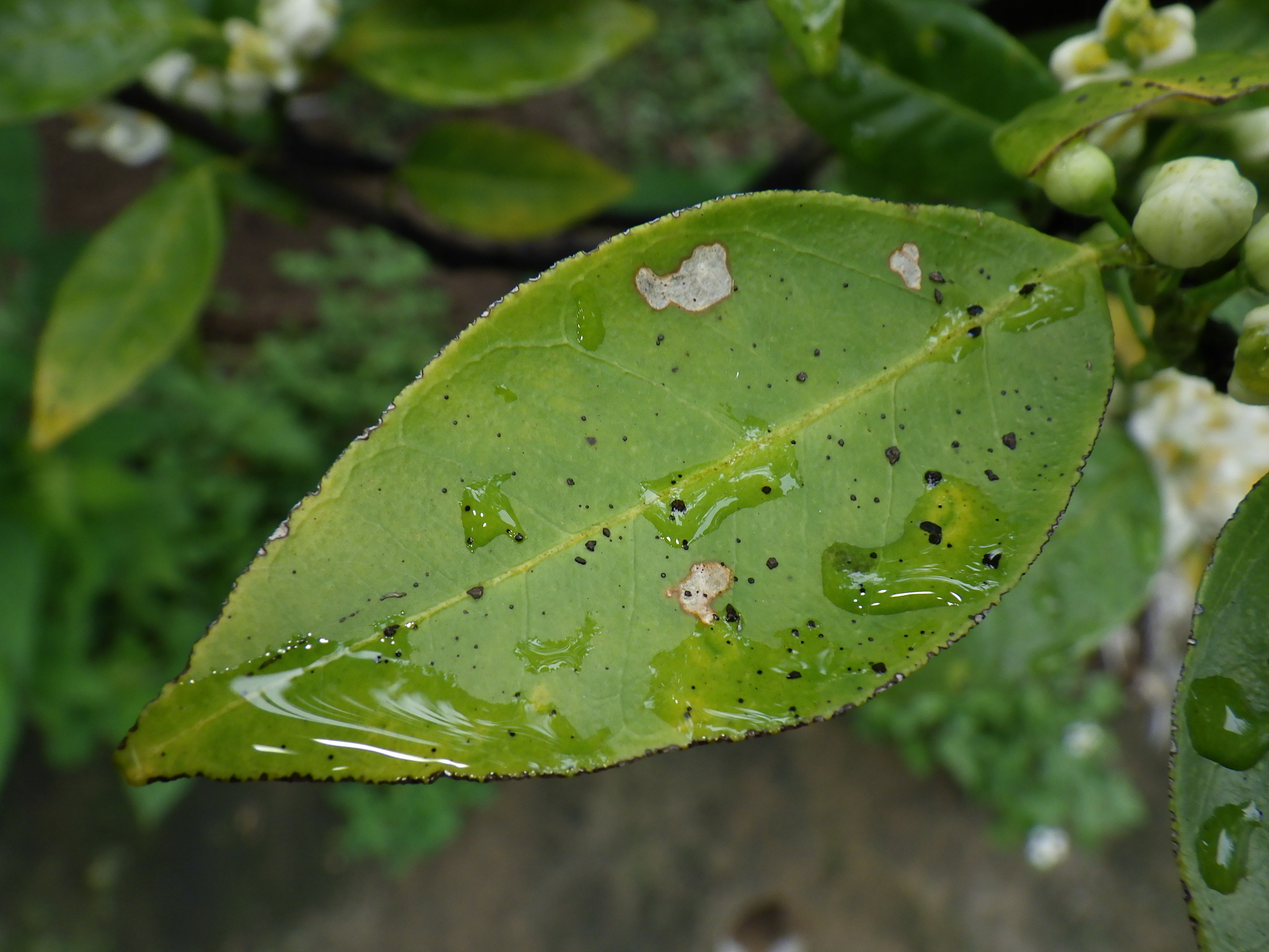Oily_Spot: (118, 192, 1112, 782)
